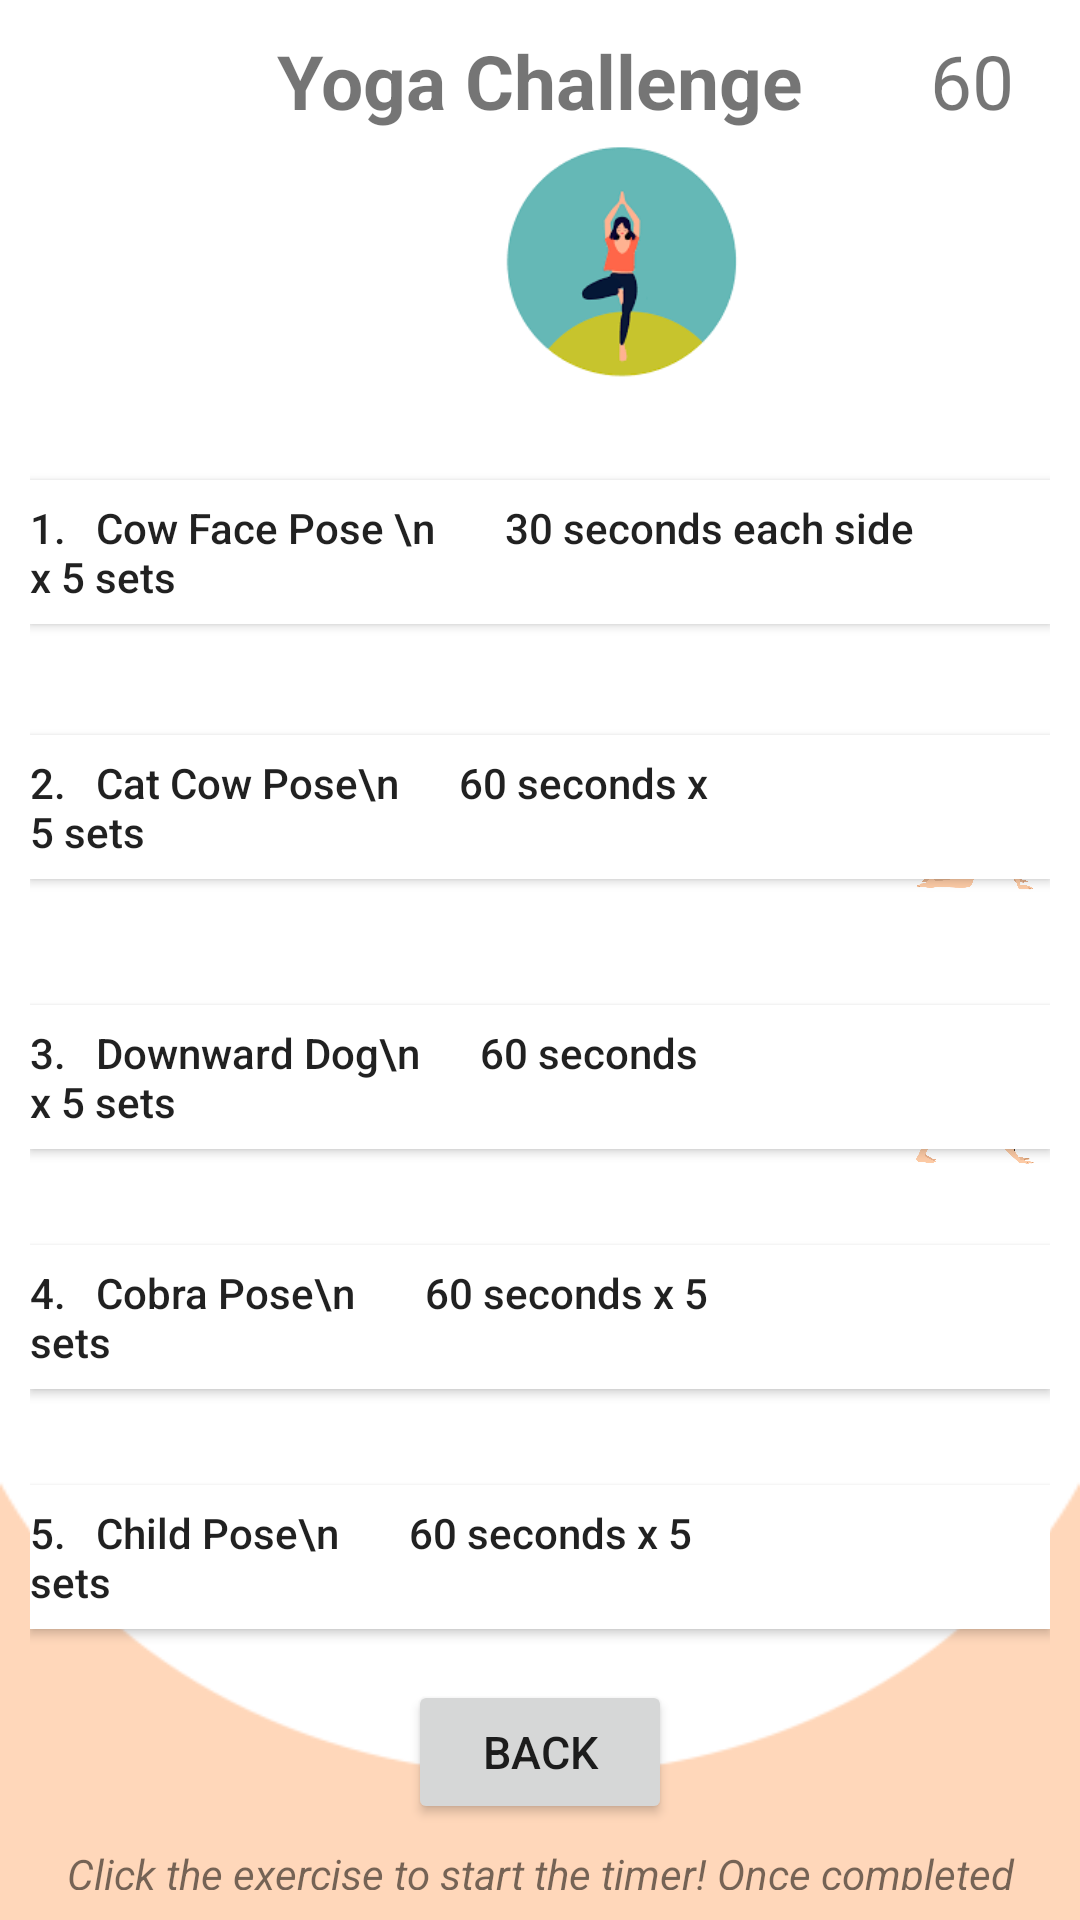

Named icons in this screenshot (1080px×1920px) and their bounding boxes, (x1, y1, x2, y2):
yogaheader: (506, 147, 736, 377)
